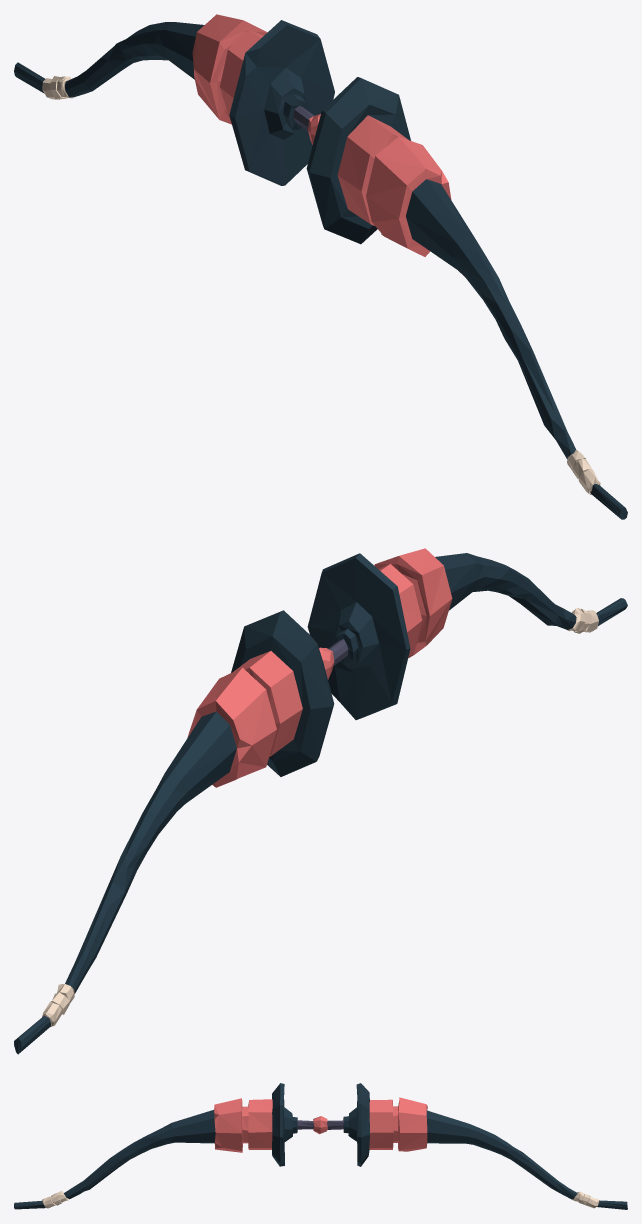
Rendered from SFFA_Bow_006.fbx.
3 renders of one model, top to bottom at view 1: azimuth 30°, elevation 25°; view 2: azimuth 150°, elevation 25°; view 3: azimuth 270°, elevation 25°, orthographic. The views are drawn at different scales.
Parts seen in each view (by area): view 1: SFFA_Bow_006; view 2: SFFA_Bow_006; view 3: SFFA_Bow_006.
Part boxes in pixels (x1,y1,x2,y2): SFFA_Bow_006: (14, 14, 627, 519); SFFA_Bow_006: (14, 548, 627, 1054); SFFA_Bow_006: (14, 1083, 627, 1209).
Size of the model in its own units: 13.34 by 30.7 by 135.
